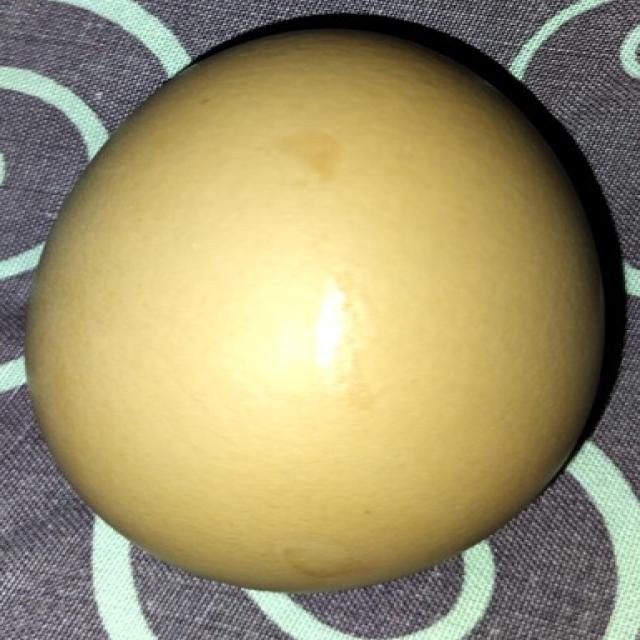fresh: (18, 18, 593, 586)
